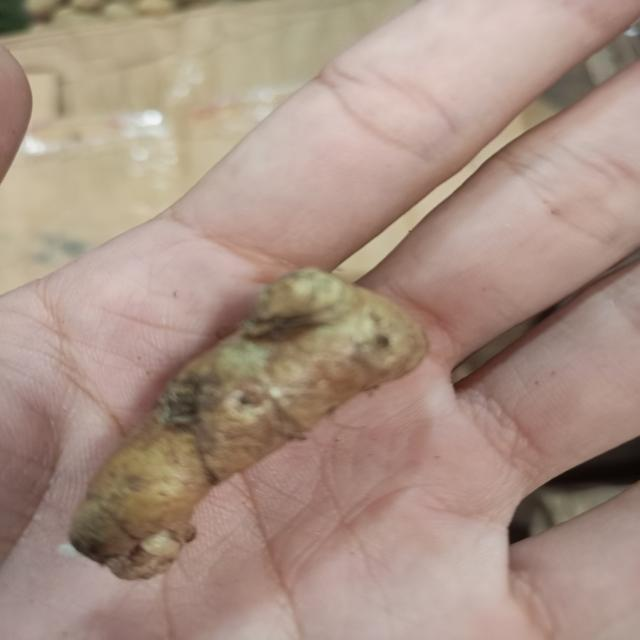ginger: (80, 286, 390, 566)
